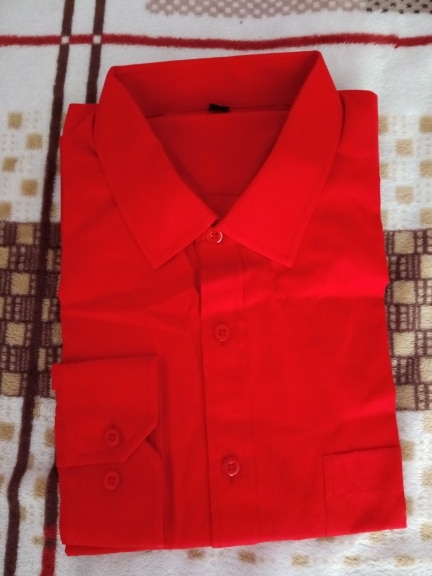shirts: (76, 65, 409, 539)
